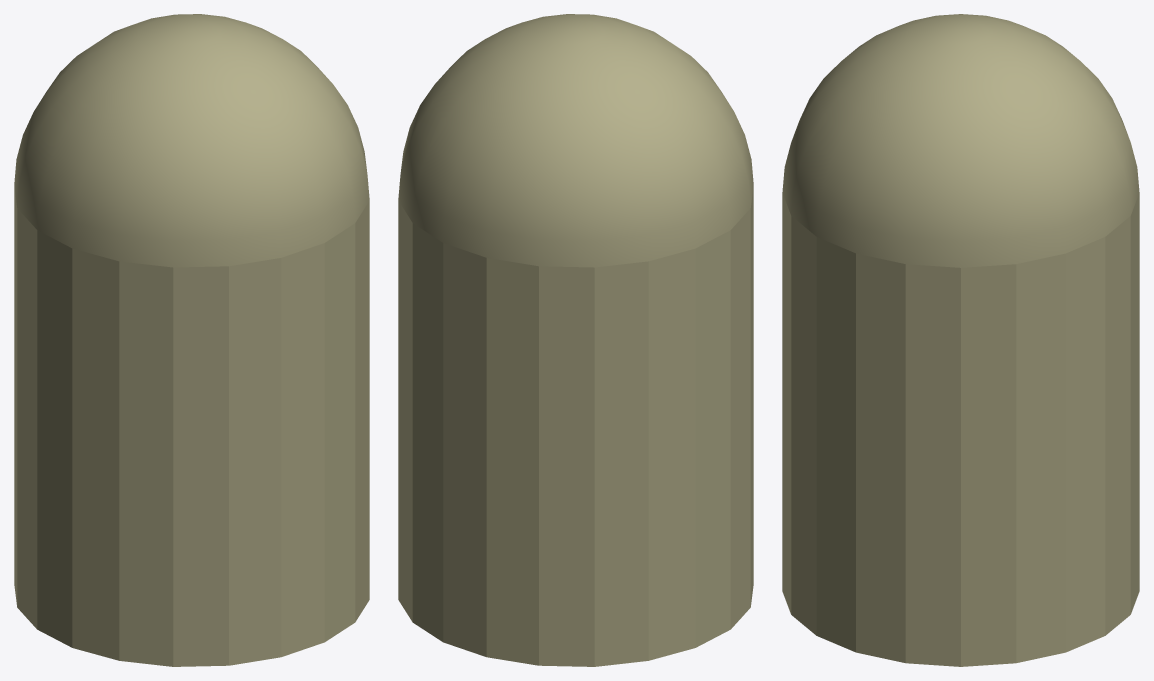
File: Ruin.fbx
3 renders of one model, left to right at view 1: azimuth 30°, elevation 25°; view 2: azimuth 150°, elevation 25°; view 3: azimuth 270°, elevation 25°, orthographic.
Parts seen in each view (by area): view 1: pSphere1; view 2: pSphere1; view 3: pSphere1.
Part boxes in pixels (x1,y1,x2,y2): pSphere1: (14,14,369,666); pSphere1: (398,14,753,666); pSphere1: (782,14,1139,666).
Size of the model in its own units: 2 by 3.47 by 2.
